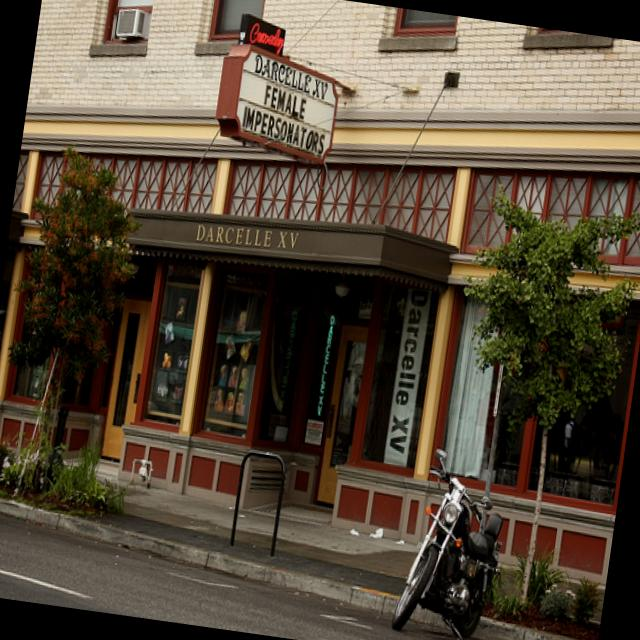Vehicle: (391, 448, 516, 640)
